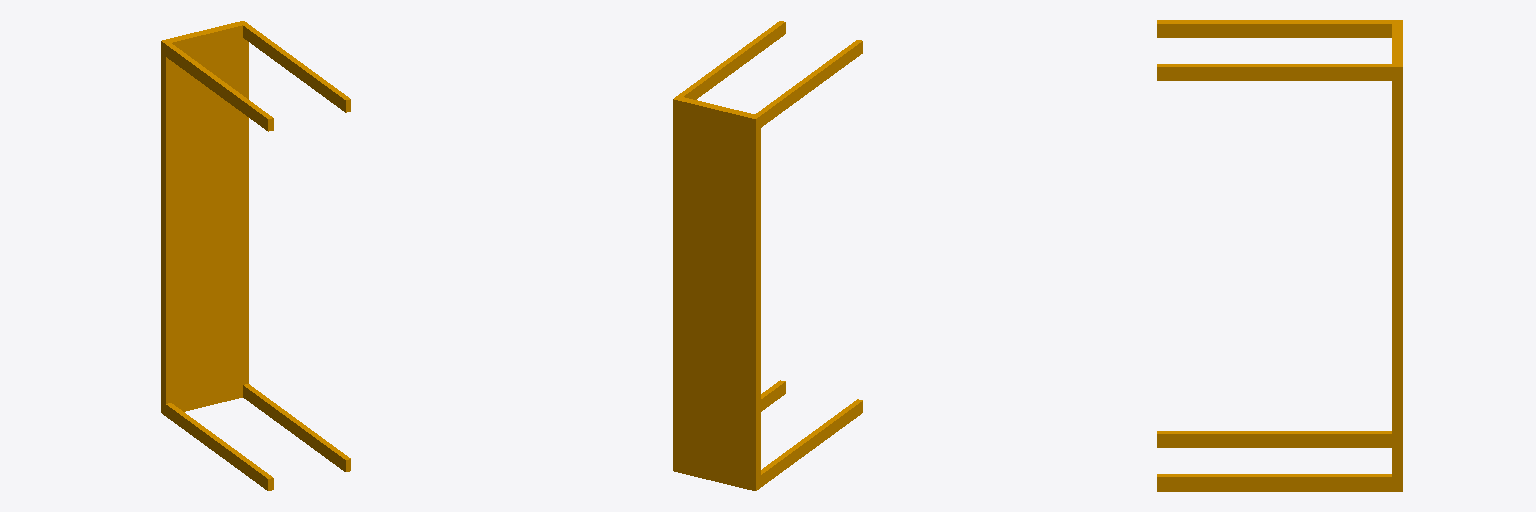
The robot description file, URDF, robot "cokebottle":
<?xml version="1.0" ?>
<robot name="cokebottle">
 <link name="cokebottle">
  <visual>
   <origin xyz="0.0 0.0 0.0"/>
   <geometry>
    <mesh filename="table.obj" scale="0.0035 0.0075 0.0075"/>
   </geometry>
  </visual>
  <collision>
   <origin xyz="0.0 0.0 0.0"/>
   <geometry>
    <mesh filename="table.obj" scale="0.0035 0.0075 0.0075"/>
   </geometry>
  </collision>
  <inertial>
   <mass value="0.344"/>
   <inertia ixx="0.0001" ixy="0.0" ixz="0.0" iyy="0.0001" iyz="0.0" izz="0.0001"/>
  </inertial>
 </link>
</robot>

--- What the picture shows (computed from the rendered views, not written in the file) ---
3 views of the same robot in one strip: view 1: azimuth 30°, elevation 25°; view 2: azimuth 150°, elevation 25°; view 3: azimuth 270°, elevation 25° (orthographic).
Model cokebottle with 1 links and 0 joints (none), rooted at cokebottle, posed every joint at zero.
Visible links, largest first — view 1: cokebottle; view 2: cokebottle; view 3: cokebottle.
Link boxes in pixels (x1=…): cokebottle: x1=161, y1=21, x2=350, y2=490; cokebottle: x1=673, y1=21, x2=862, y2=490; cokebottle: x1=1157, y1=20, x2=1402, y2=491.
Bounding box of the posed robot: 0.35 × 0.7852 × 1.5 m (x, y, z).
Meshes: 1 distinct files referenced, 1 mesh visuals loaded (1 OBJ).